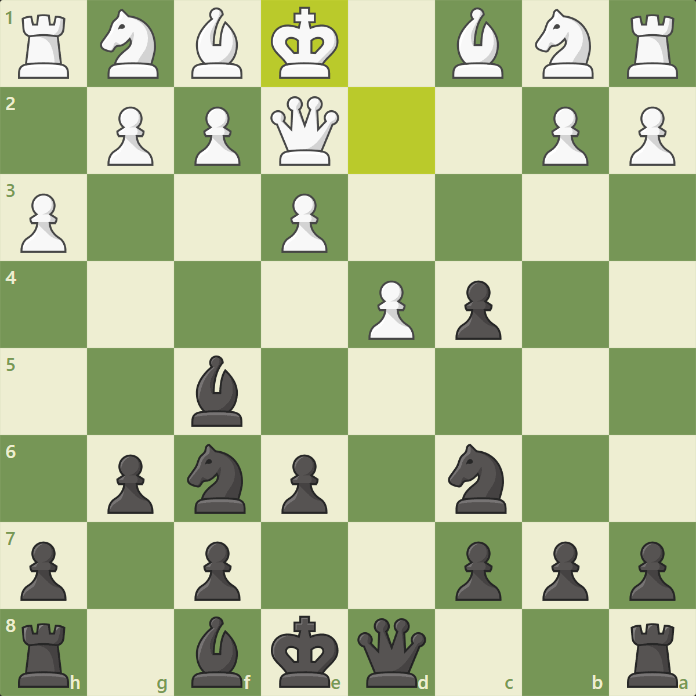B: (187, 5, 243, 82), (450, 5, 505, 81)
K: (269, 5, 341, 82)
N: (533, 7, 596, 81), (98, 8, 160, 82)
P: (366, 279, 417, 343), (279, 192, 330, 256), (18, 192, 69, 256), (104, 105, 155, 169), (191, 104, 242, 168), (539, 105, 590, 169), (627, 105, 678, 169)
Q: (268, 93, 342, 168)
R: (14, 13, 72, 82), (625, 12, 680, 82)
b: (189, 614, 245, 690), (189, 354, 245, 430)
k: (268, 613, 340, 691)
n: (185, 443, 249, 517), (446, 443, 509, 516)
p: (627, 540, 677, 604), (540, 540, 590, 604), (453, 539, 503, 603), (191, 539, 241, 603), (18, 540, 68, 604), (105, 453, 155, 517), (279, 453, 329, 517), (453, 279, 503, 343)
q: (355, 616, 429, 690)
r: (13, 621, 72, 692), (623, 619, 682, 690)
